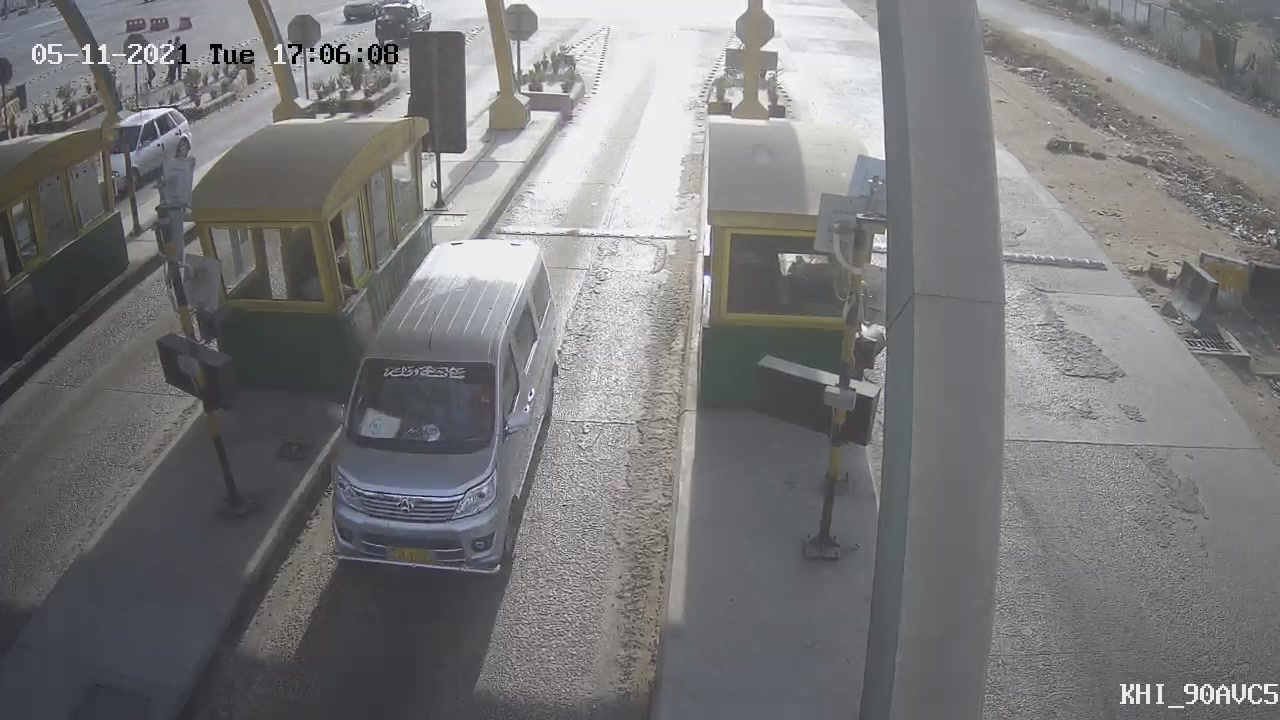F1: (298, 217, 571, 597)
